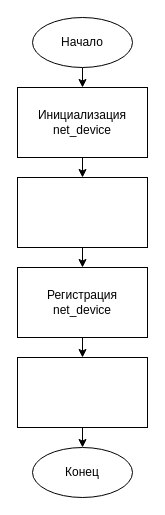
The diagram is 165 pixels wide and 515 high, and some of its shapes have lost their labels. The shapes that lost their labels are listed below. From the top down, each one's centre as x and y in pixels, then its label:
[82,212]: Создание ссылок на "дочерние" интерфейсы в приватной области net_device
[82,392]: Регистрация обработчика в "дочерних" интерфейсах
